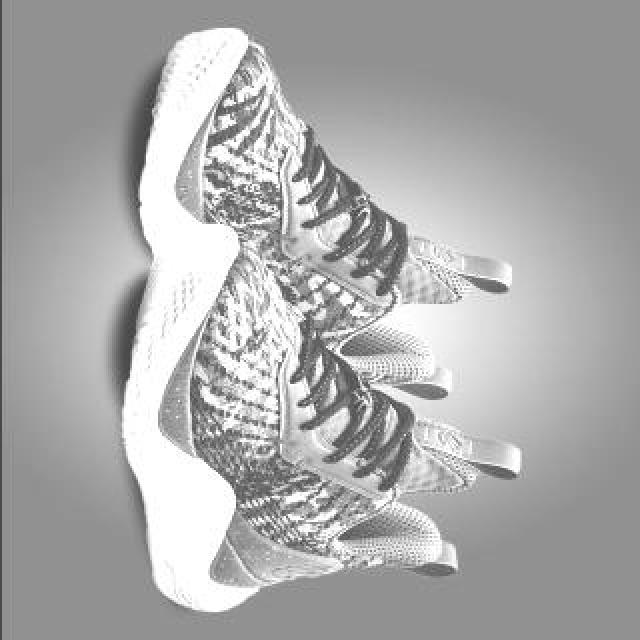shoe: (117, 227, 509, 613), (133, 31, 511, 407)
